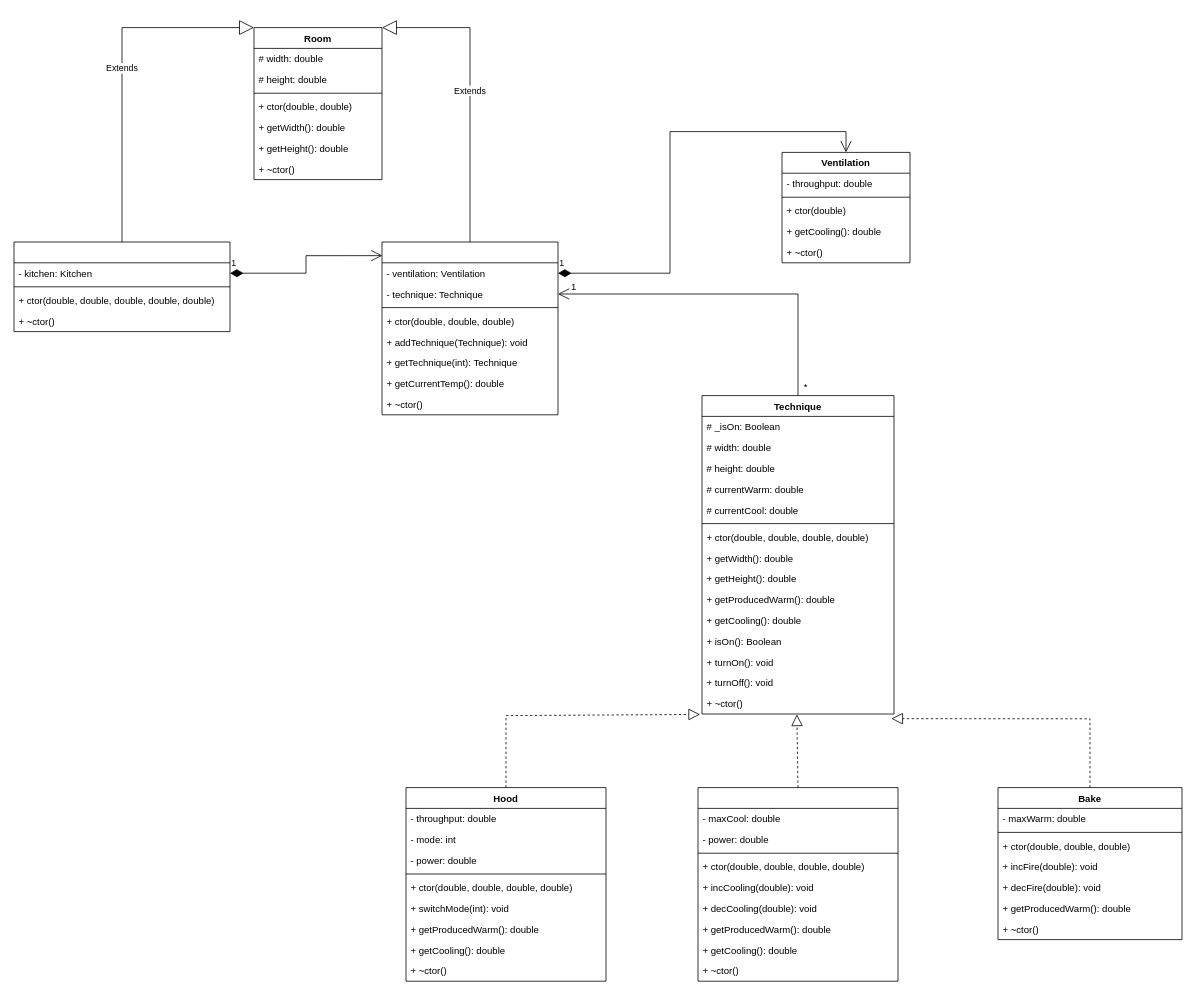
Some shapes in this 1196 by 998 pixel diagram are drawn without their labels. Each missing label, with the box of its shape:
Kitchen: (381, 241, 558, 415)
Refrigerator: (697, 787, 898, 981)
Restaurant: (13, 241, 230, 332)
